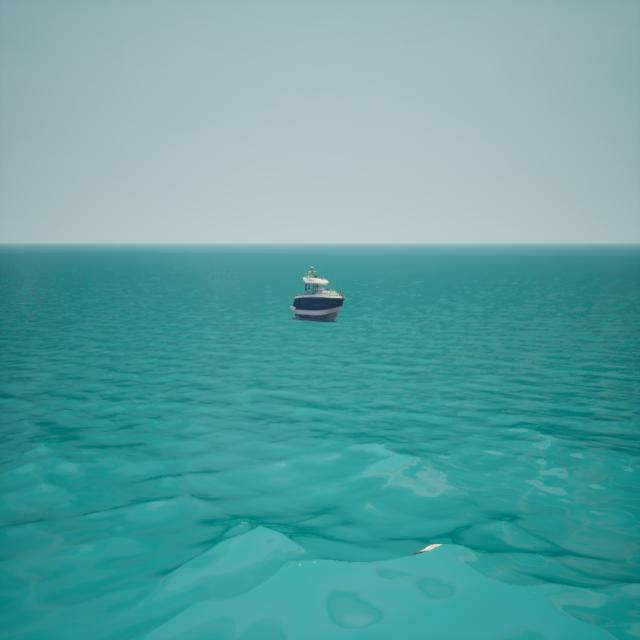ship: (290, 264, 346, 321)
